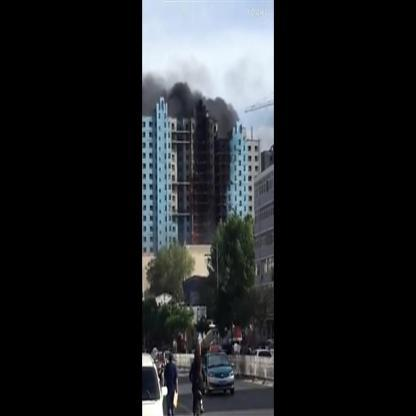smoke: (168, 82, 196, 116), (209, 96, 233, 132), (143, 72, 159, 108)
